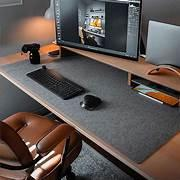keyboard: (25, 66, 85, 100)
